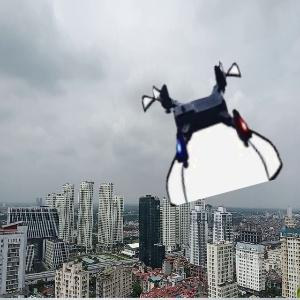drone: (143, 65, 274, 196)
